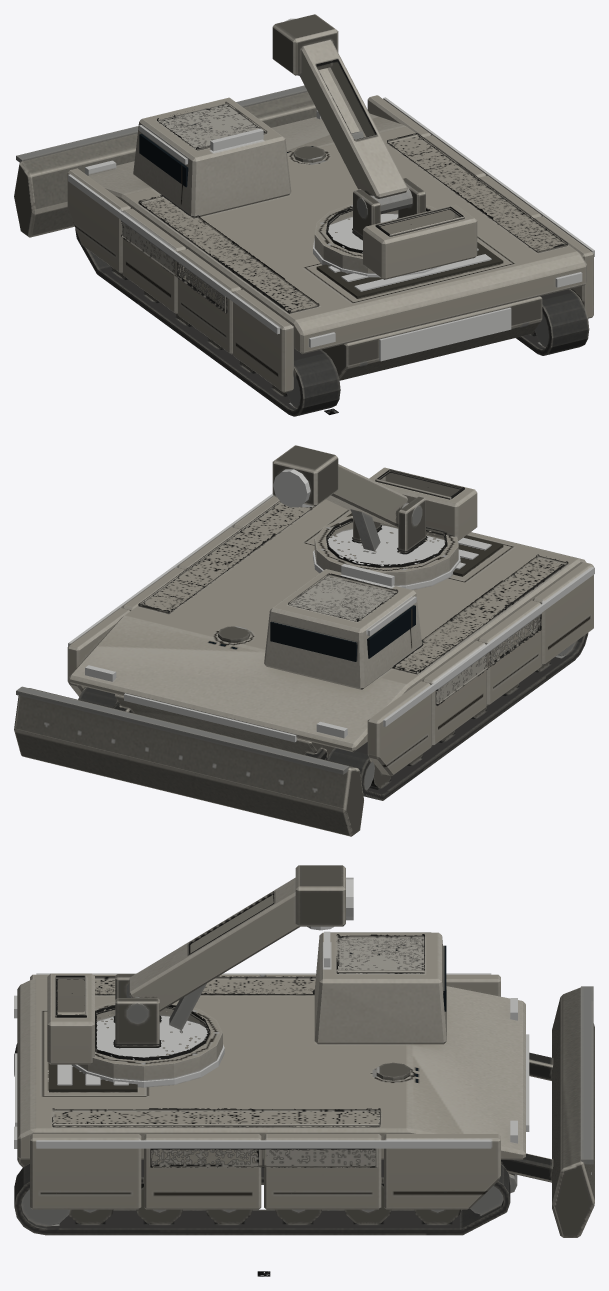
Rendered from ord_mason.fbx.
3 views of the same model, one above another, from view 1: azimuth 30°, elevation 25°; view 2: azimuth 150°, elevation 25°; view 3: azimuth 270°, elevation 25° (orthographic). The views are drawn at different scales.
Visible parts, largest first — view 1: base_bar, nano_bar, base_glow_running_bar, nano_glow_power_bar, base_glow_head_bar; view 2: base_bar, nano_bar, base_glow_running_bar, nano_glow_power_bar, base_glow_head_bar; view 3: base_bar, nano_bar, base_glow_running_bar, nano_glow_power_bar, base_glow_head_bar.
Part boxes in pixels (x1=…): base_bar: x1=14, y1=85, x2=593, y2=416; nano_bar: x1=272, y1=14, x2=477, y2=279; base_glow_running_bar: x1=68, y1=97, x2=594, y2=361; nano_glow_power_bar: x1=285, y1=18, x2=443, y2=277; base_glow_head_bar: x1=85, y1=110, x2=321, y2=175; base_bar: x1=14, y1=496, x2=593, y2=836; nano_bar: x1=272, y1=445, x2=477, y2=585; base_glow_running_bar: x1=68, y1=493, x2=594, y2=742; nano_glow_power_bar: x1=273, y1=469, x2=460, y2=589; base_glow_head_bar: x1=85, y1=564, x2=394, y2=738; base_bar: x1=14, y1=932, x2=594, y2=1237; nano_bar: x1=47, y1=865, x2=345, y2=1080; base_glow_running_bar: x1=14, y1=932, x2=529, y2=1148; nano_glow_power_bar: x1=72, y1=877, x2=353, y2=1087; base_glow_head_bar: x1=324, y1=931, x2=517, y2=1143.
Size of the model in its own units: 660 by 695 by 919.
2 materials, 2 textured.
